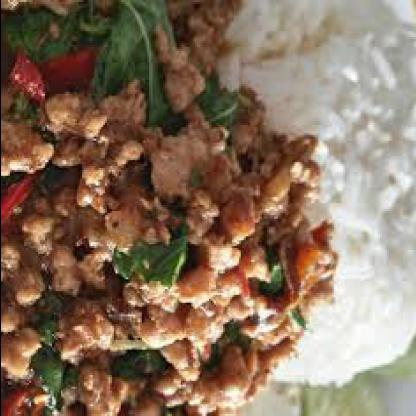Basil Rice: (2, 0, 412, 414)
